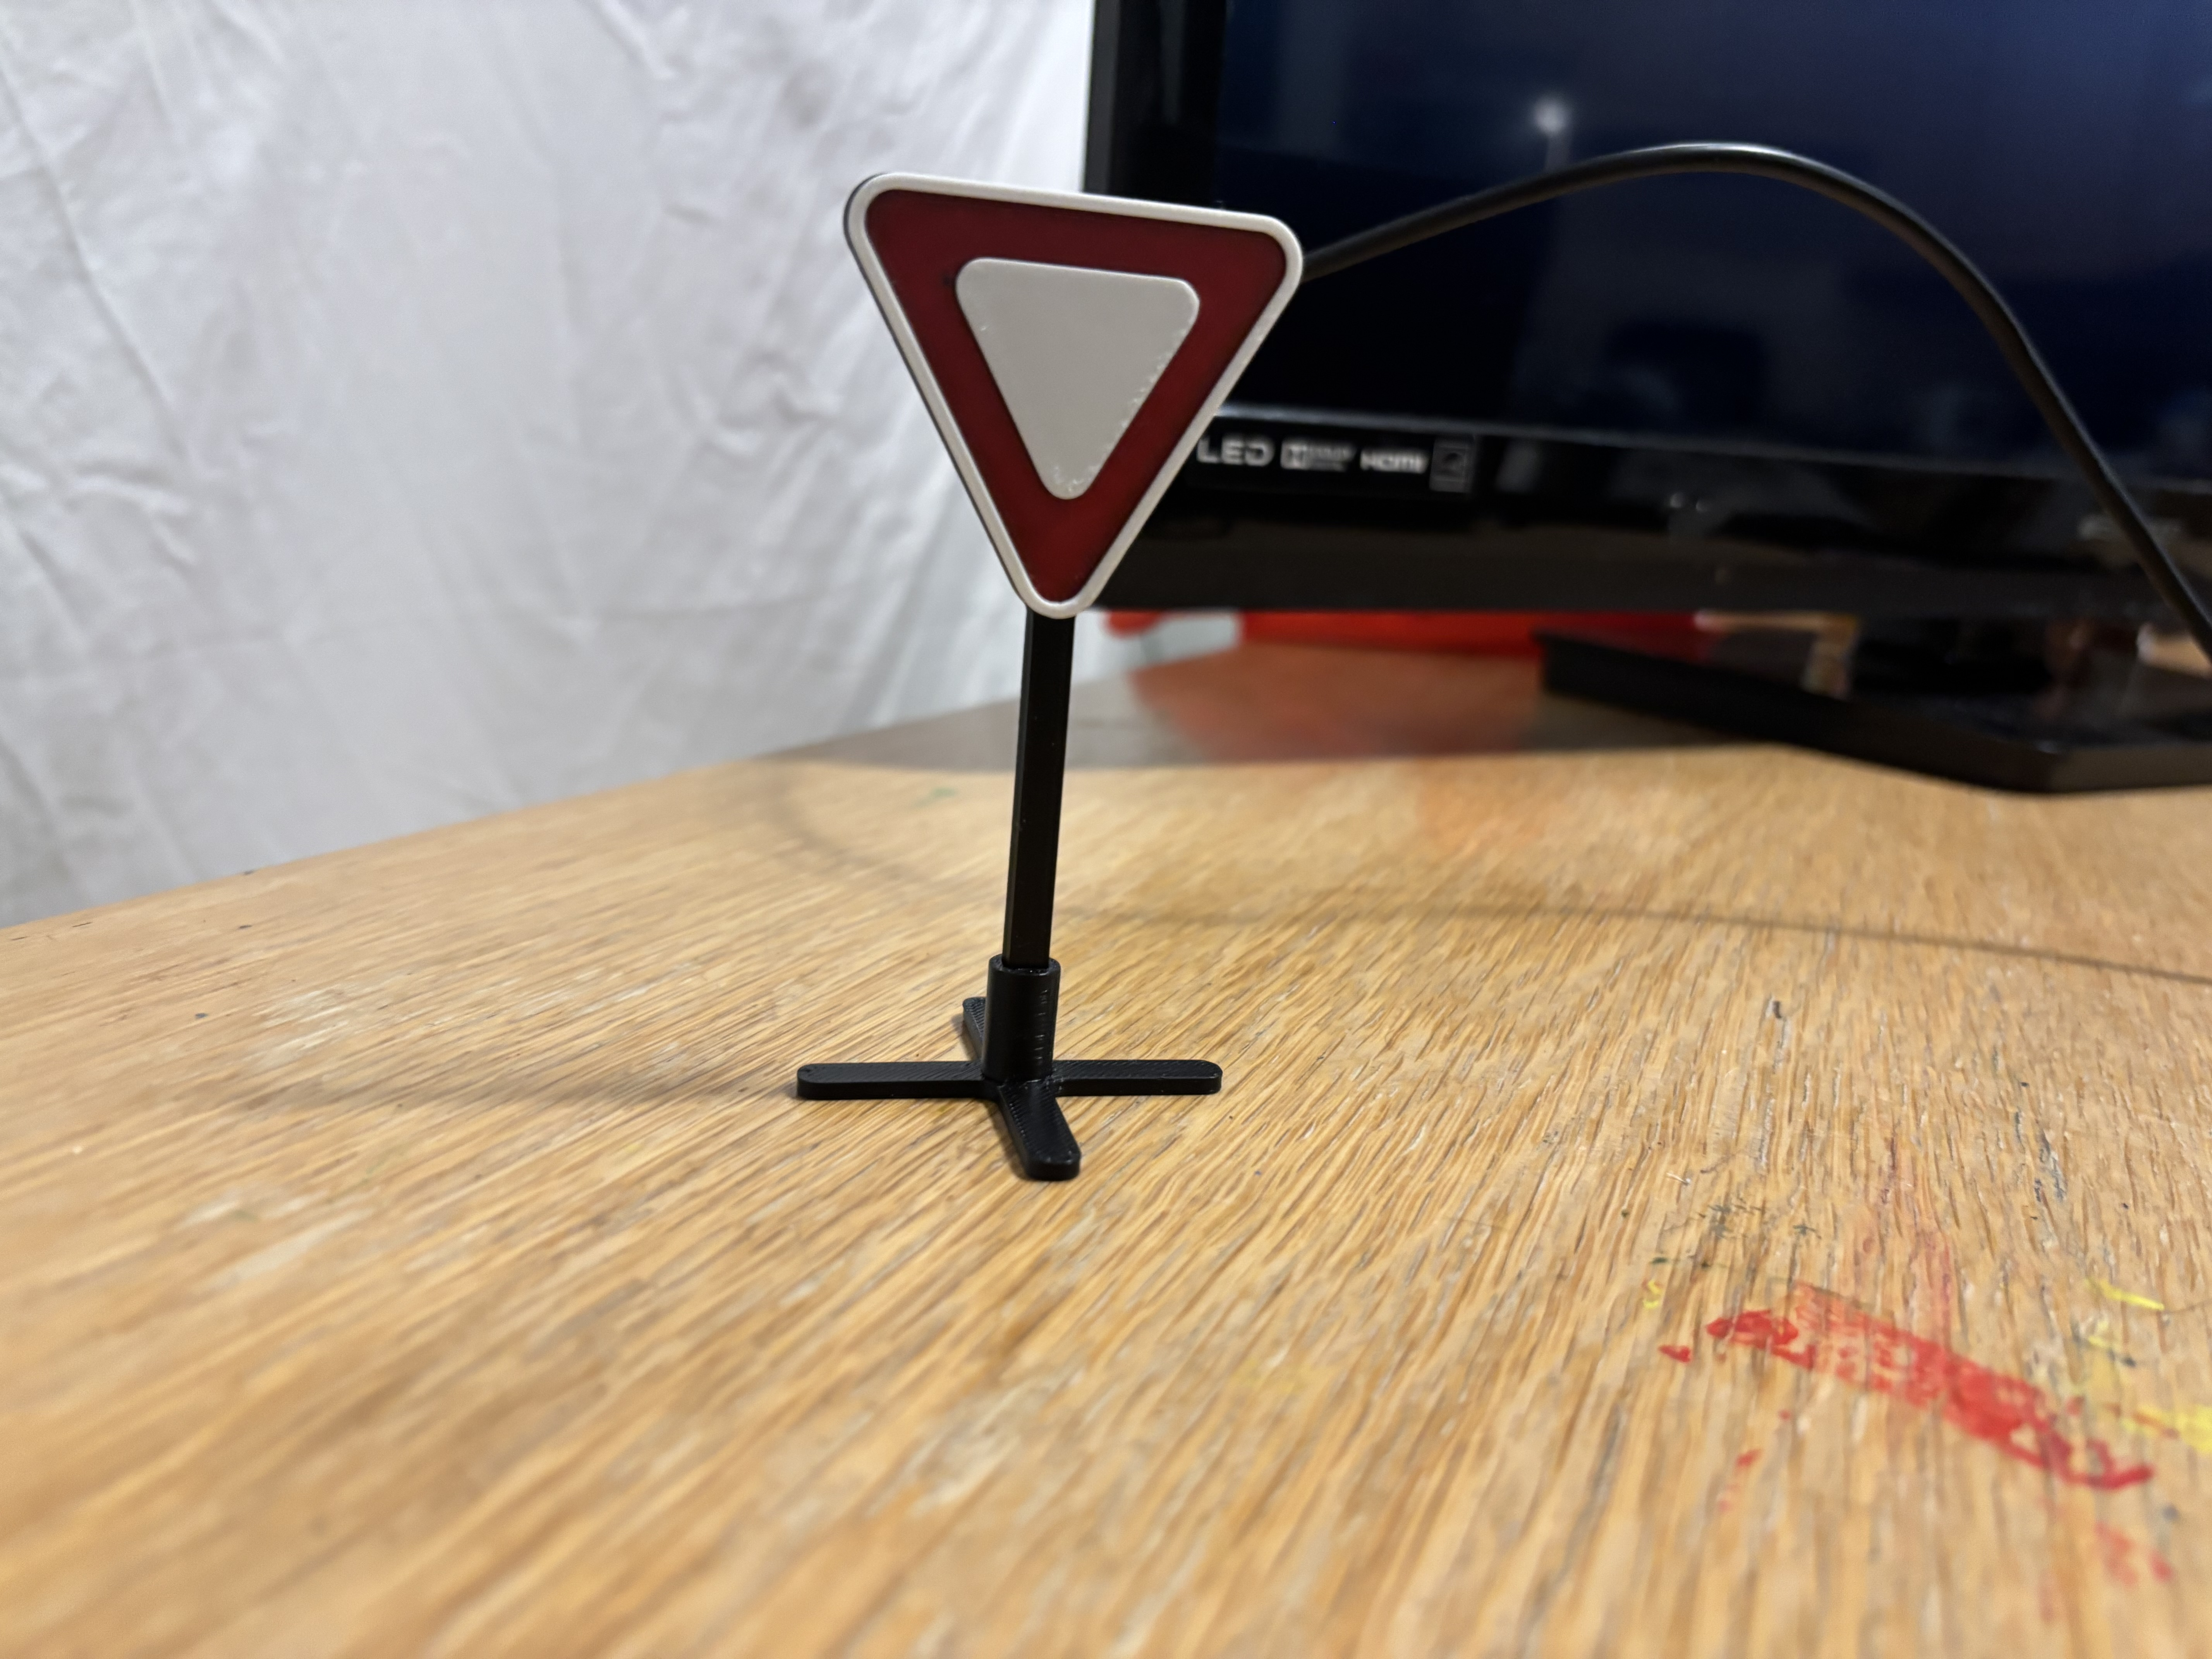sign_yield: (834, 160, 1294, 615)
